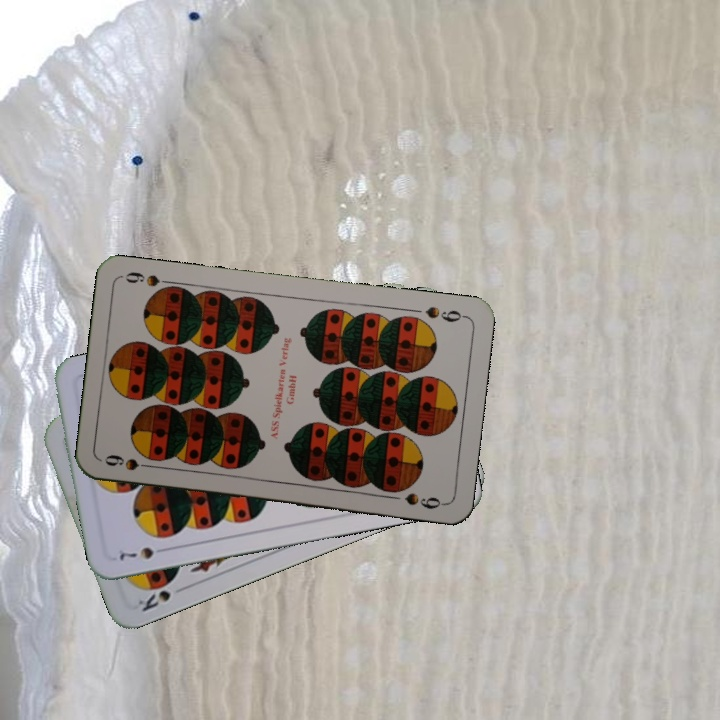S7: (113, 543, 171, 563)
S9: (100, 451, 159, 473), (421, 302, 468, 325)
SK: (134, 582, 190, 615)
